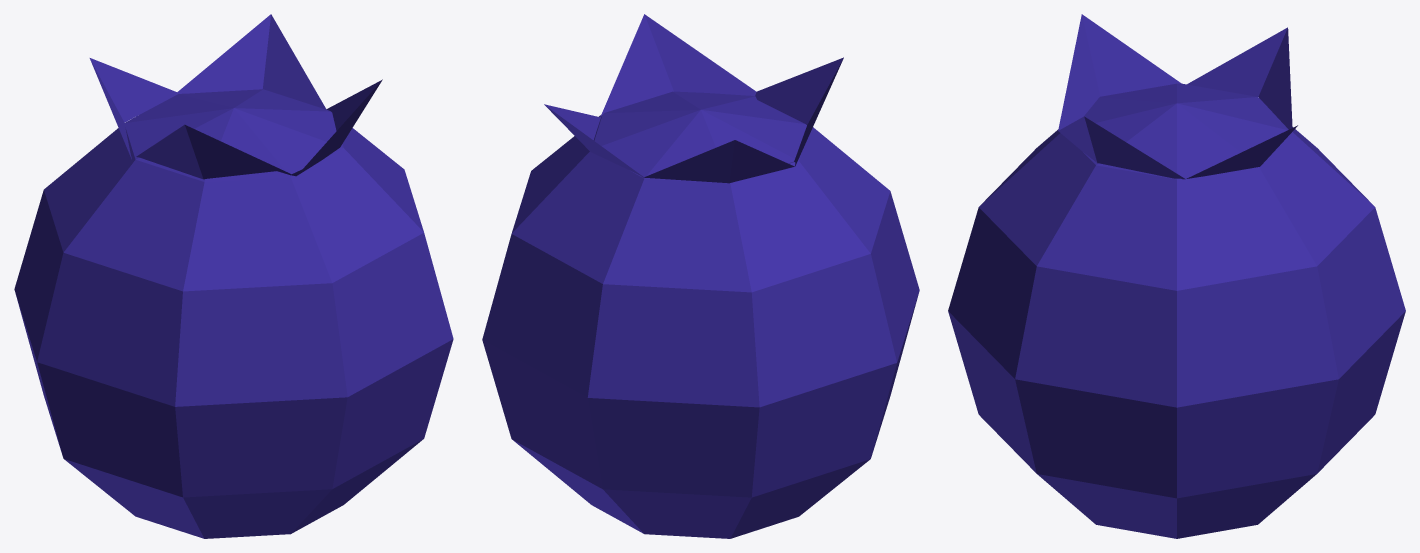
File: Blueberry.glb
The picture shows the model from 3 angles, left to right: view 1: azimuth 30°, elevation 25°; view 2: azimuth 150°, elevation 25°; view 3: azimuth 270°, elevation 25°; orthographic projection.
Parts seen in each view (by area): view 1: Sphere, Circle; view 2: Sphere, Circle; view 3: Sphere, Circle.
Boxes of the visible parts, x1,y1,x2,y2 form: Sphere: [14, 89, 453, 538]; Circle: [89, 14, 382, 179]; Sphere: [482, 91, 919, 538]; Circle: [544, 14, 843, 183]; Sphere: [948, 83, 1405, 538]; Circle: [1058, 14, 1297, 179].
Bounding box in the file's own units: 2 × 2.2 × 2.
2 materials, 2 textured.
